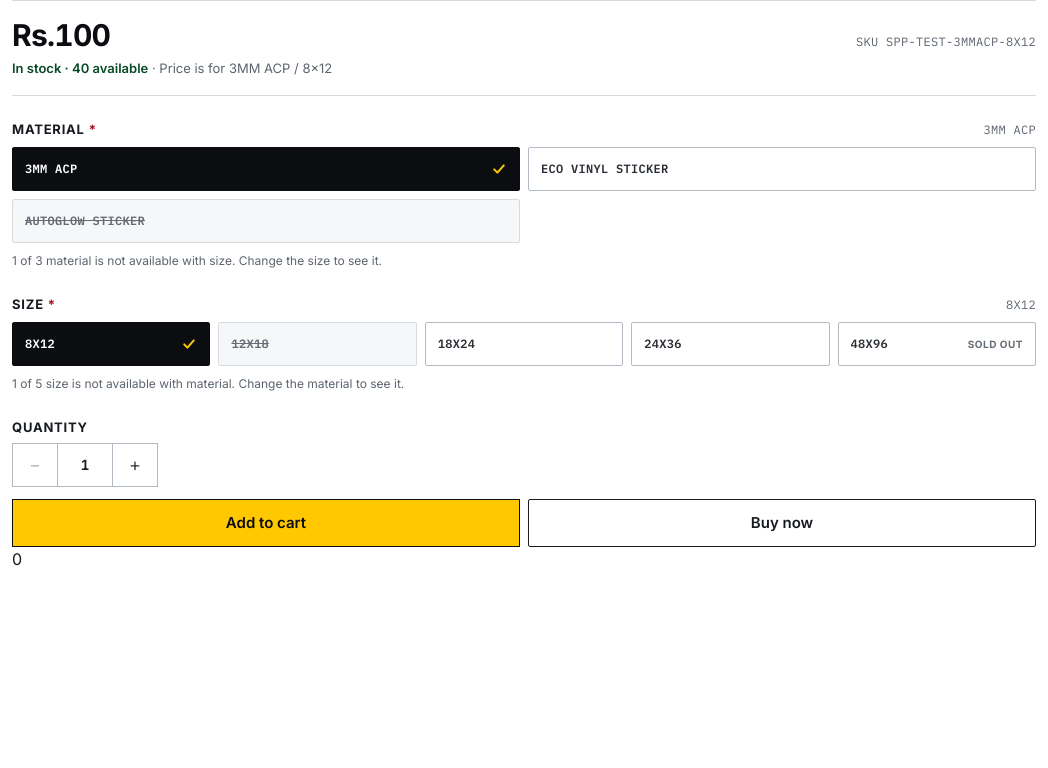
Test case: VariantSelector - add to cart › stays disabled when the only matching variant is sold out
What coordinates should you click on to do the following:
click the radio button labelled "48x96 Sold out"
I would click on:
 (937, 344)
Its box is [838,322,1036,366].
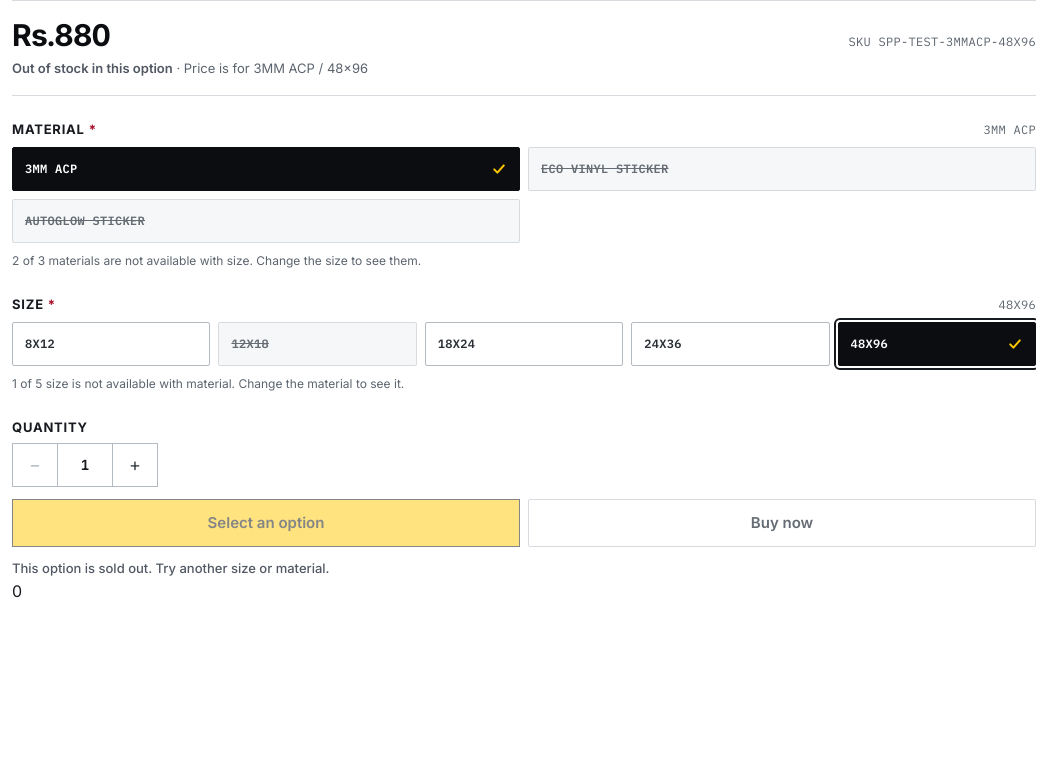
expect the button "Select an option" is disabled: met, box [12,499,520,547]
expect the message reads "This option is sold out. Try another size or material.": met, box [12,560,330,576]
